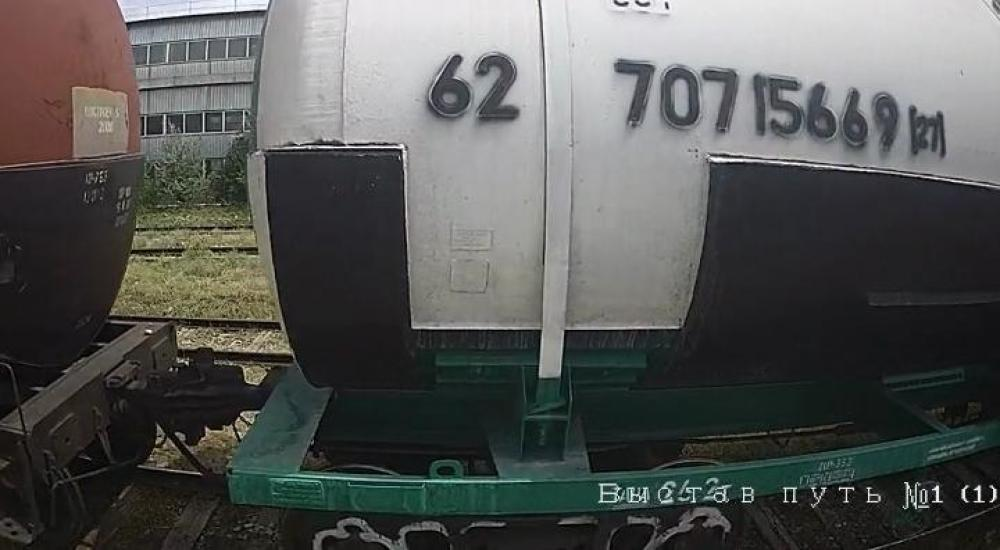Wagon-number: (610, 55, 902, 156)
